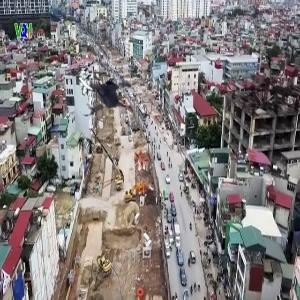drone: (68, 52, 142, 126)
